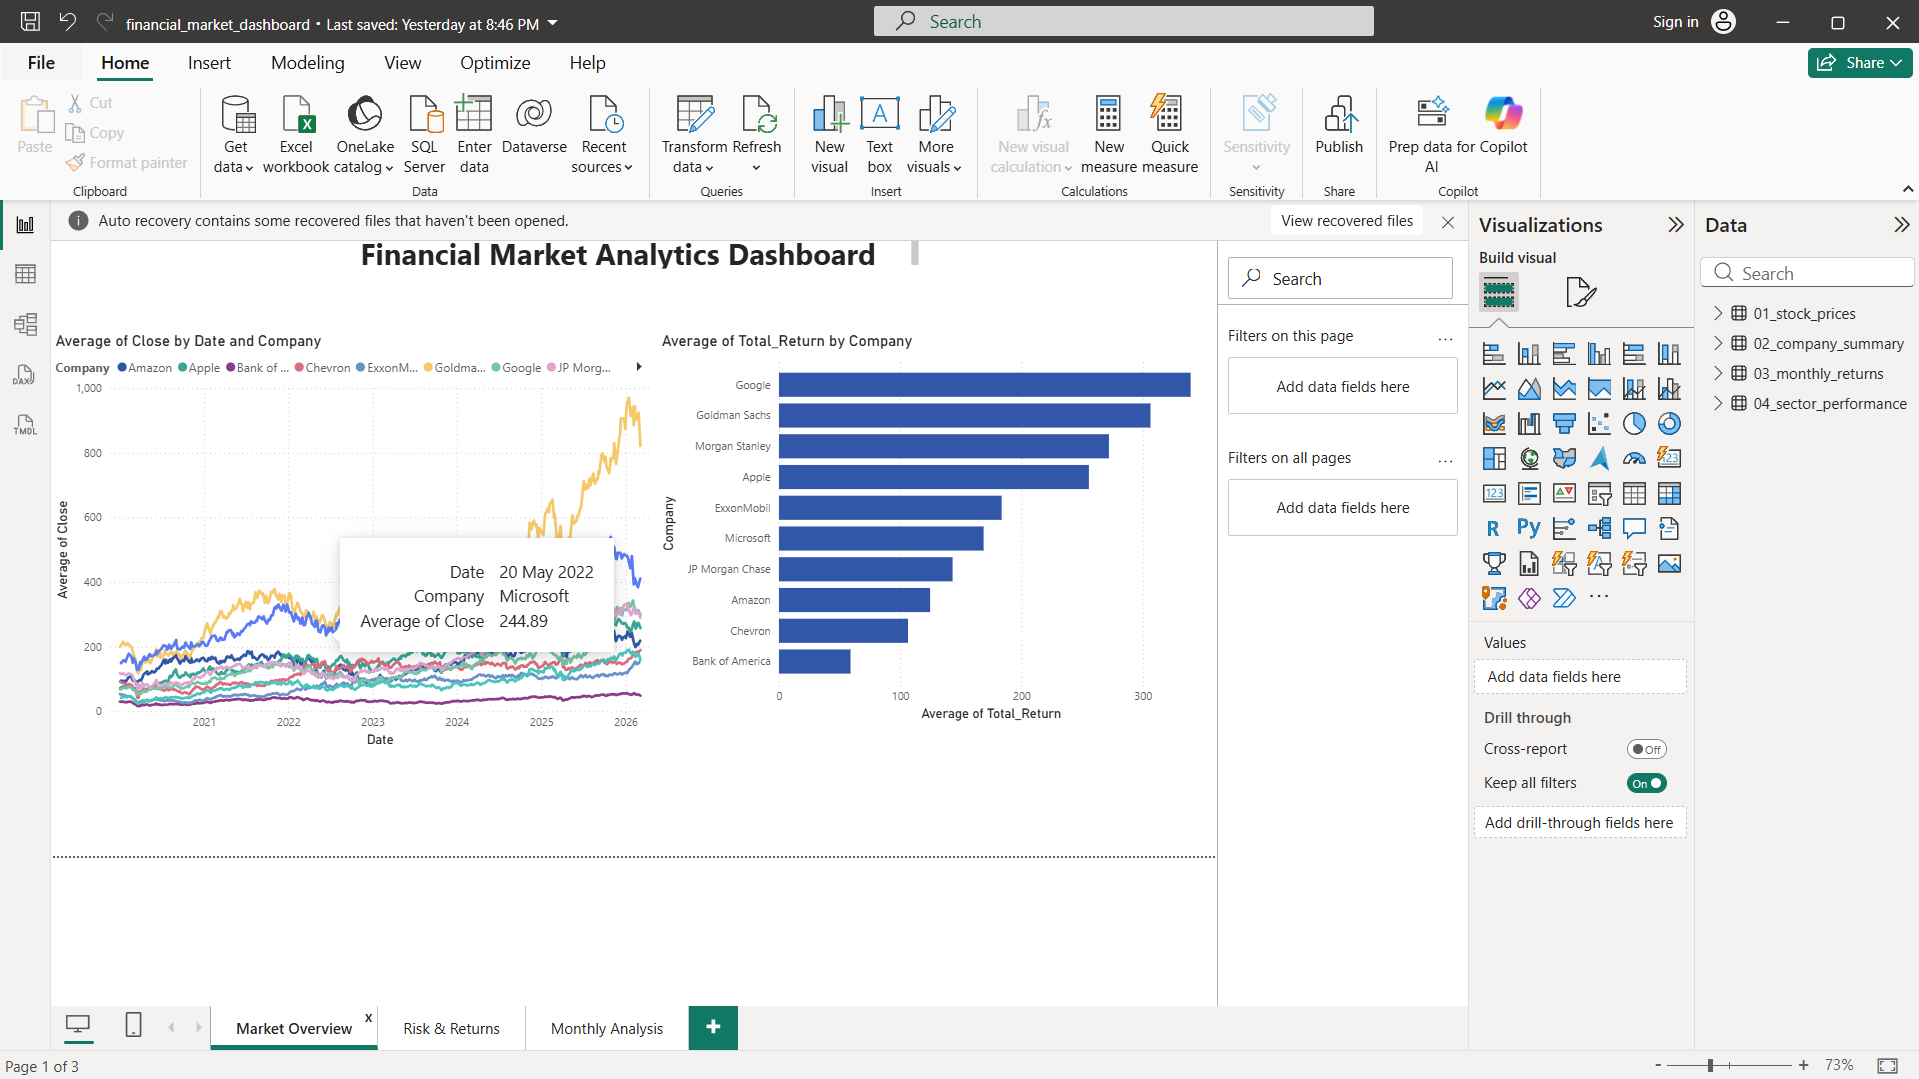

What the dashboard file says about the page in this screenshot:
{"tool":"powerbi","page":{"name":"Market Overview","canvas":[1280,720],"ordinal":0},"visuals":[{"type":"lineChart","fields":{"Y":["Avg(01_stock_prices.Close)"],"Series":["01_stock_prices.Company"],"Category":["01_stock_prices.Date"]},"box":[0,144,665.3,461],"z":0},{"type":"clusteredBarChart","fields":{"Category":["02_company_summary.Company"],"Y":["Avg(02_company_summary.Total_Return)"]},"box":[665.3,144,614.7,432.8],"z":1000},{"type":"textbox","box":[296.7,33.1,661.4,47.7],"z":1001}]}

Visuals, with their boxes on the page's 1280x720 design canvas (x1, y1, x2, y2). These are canvas units, not pixel positions in the 1919x1079 screenshot, which may show the page scaled, cropped or inside an application window:
lineChart - Avg(01_stock_prices.Close) x 01_stock_prices.Company: 0:144:665:605
clusteredBarChart - 02_company_summary.Company x Avg(02_company_summary.Total_Return): 665:144:1280:577
textbox: 297:33:958:81
